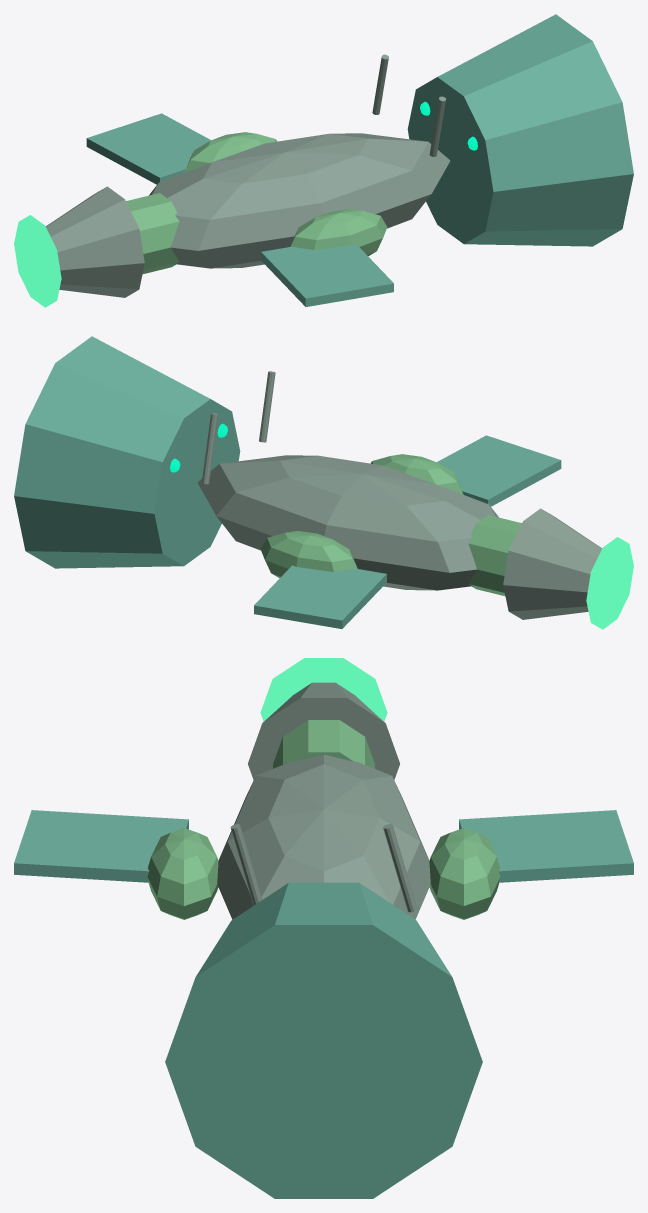
Rendered from harvester_frigate.glb.
The picture shows the model from 3 angles, top to bottom: view 1: azimuth 30°, elevation 25°; view 2: azimuth 150°, elevation 25°; view 3: azimuth 270°, elevation 25°; orthographic projection. The views are drawn at different scales.
Visible parts, largest first — view 1: Scoop, Hull, Engine, Vane-1, Vane1, Pod-1, Glow, Reactor, Pod1, Ant2, Ant1; view 2: Scoop, Hull, Engine, Vane1, Vane-1, Pod1, Glow, Reactor, Pod-1, Ant1, Ant2; view 3: Scoop, Hull, Vane-1, Vane1, Engine, Pod-1, Pod1, Glow, Reactor, Ant1, Ant2.
Boxes of the visible parts, x1,y1,x2,y2 form: Scoop: [407, 14, 633, 246]; Hull: [149, 133, 450, 268]; Engine: [45, 186, 144, 297]; Vane-1: [261, 243, 393, 306]; Vane1: [86, 113, 210, 184]; Pod-1: [290, 209, 387, 256]; Glow: [14, 215, 61, 307]; Reactor: [126, 193, 179, 273]; Pod1: [184, 132, 277, 172]; Ant2: [429, 96, 445, 156]; Ant1: [372, 54, 388, 114]; Scoop: [14, 336, 240, 568]; Hull: [197, 455, 498, 590]; Engine: [503, 508, 602, 619]; Vane1: [254, 565, 386, 628]; Vane-1: [437, 435, 561, 506]; Pod1: [260, 531, 357, 578]; Glow: [586, 537, 633, 629]; Reactor: [468, 515, 521, 595]; Pod-1: [370, 454, 463, 494]; Ant1: [201, 413, 218, 484]; Ant2: [259, 371, 275, 442]; Scoop: [165, 882, 482, 1198]; Hull: [217, 754, 430, 919]; Vane-1: [14, 810, 188, 882]; Vane1: [459, 810, 633, 882]; Engine: [248, 682, 399, 779]; Pod-1: [147, 828, 218, 919]; Pod1: [429, 828, 500, 919]; Glow: [260, 658, 387, 721]; Reactor: [273, 720, 374, 768]; Ant1: [383, 824, 417, 912]; Ant2: [230, 824, 262, 905].
Bounding box in the file's own units: 1.3 × 0.4755 × 0.9754.
